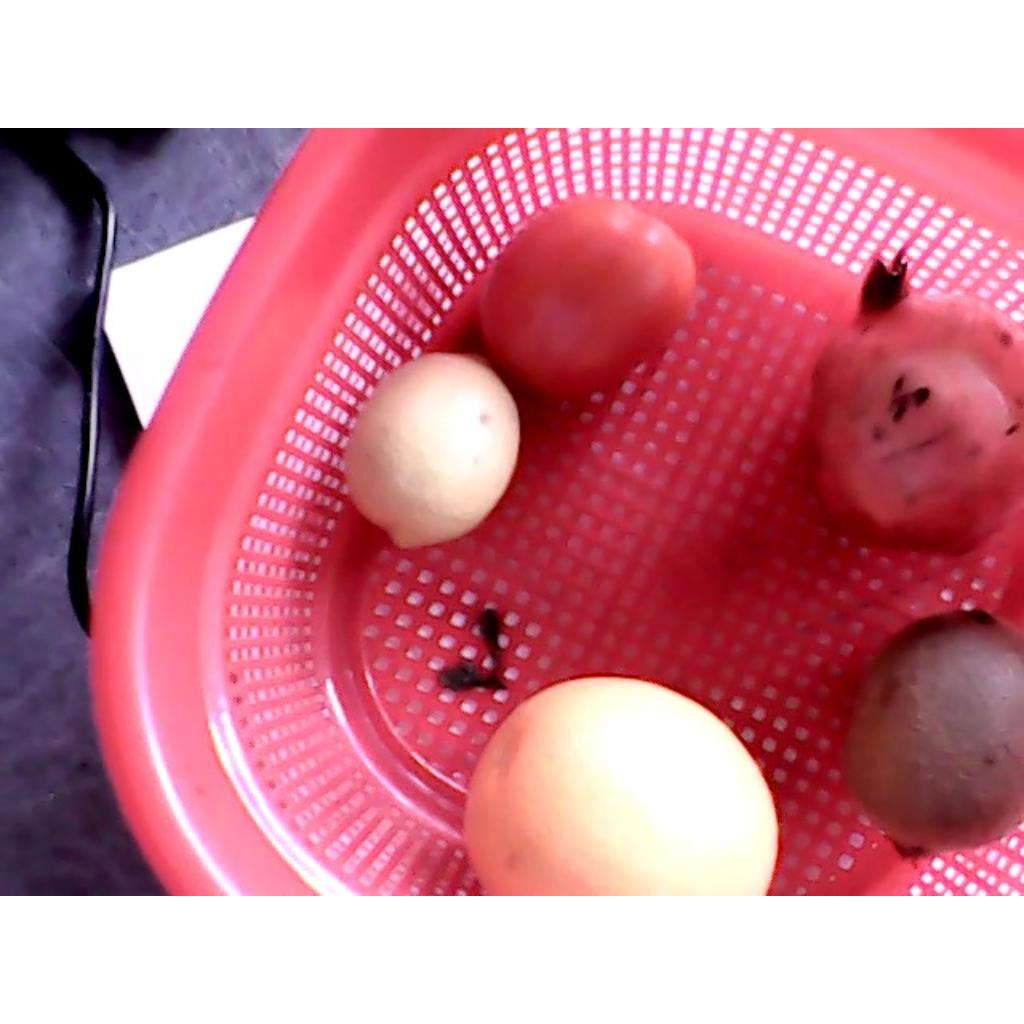kiwi: (838, 606, 1022, 862)
lemon: (344, 351, 520, 549)
orange: (462, 674, 780, 894)
pomegranate: (794, 256, 1022, 555)
tomato: (479, 201, 696, 405)
